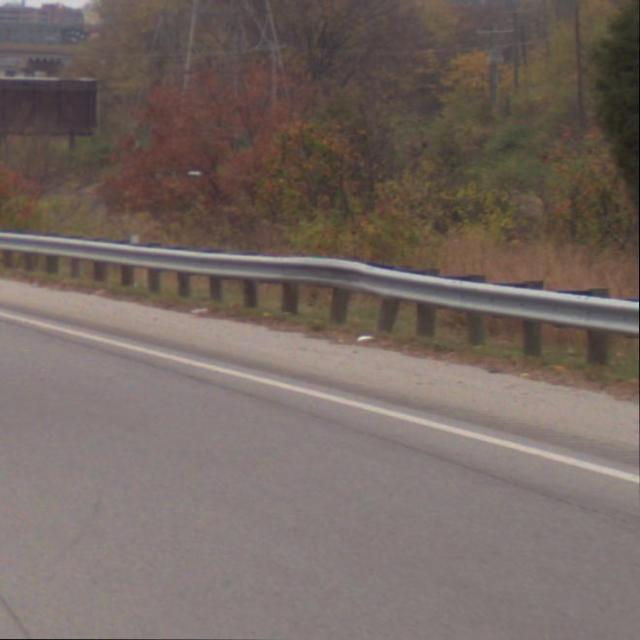Guard rail: (0, 222, 640, 373)
